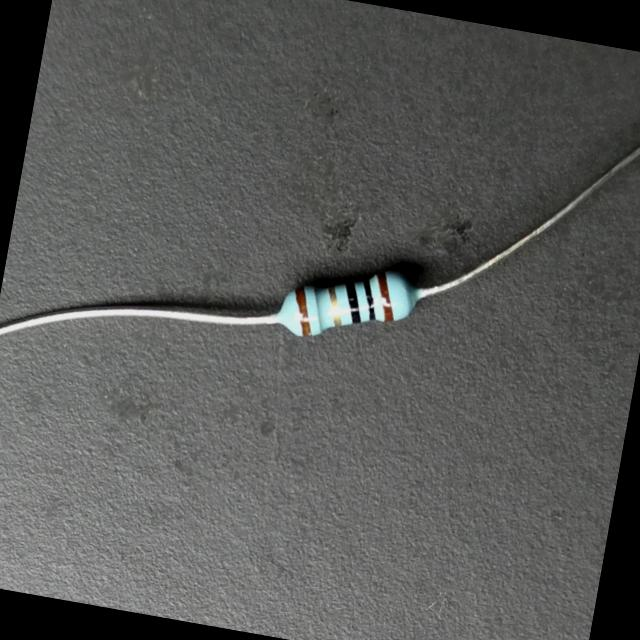Resistor: (277, 271, 420, 336)
black: (362, 278, 375, 320), (346, 280, 359, 322)
brown: (376, 270, 392, 321), (294, 287, 310, 334)
gold: (327, 286, 341, 325)
